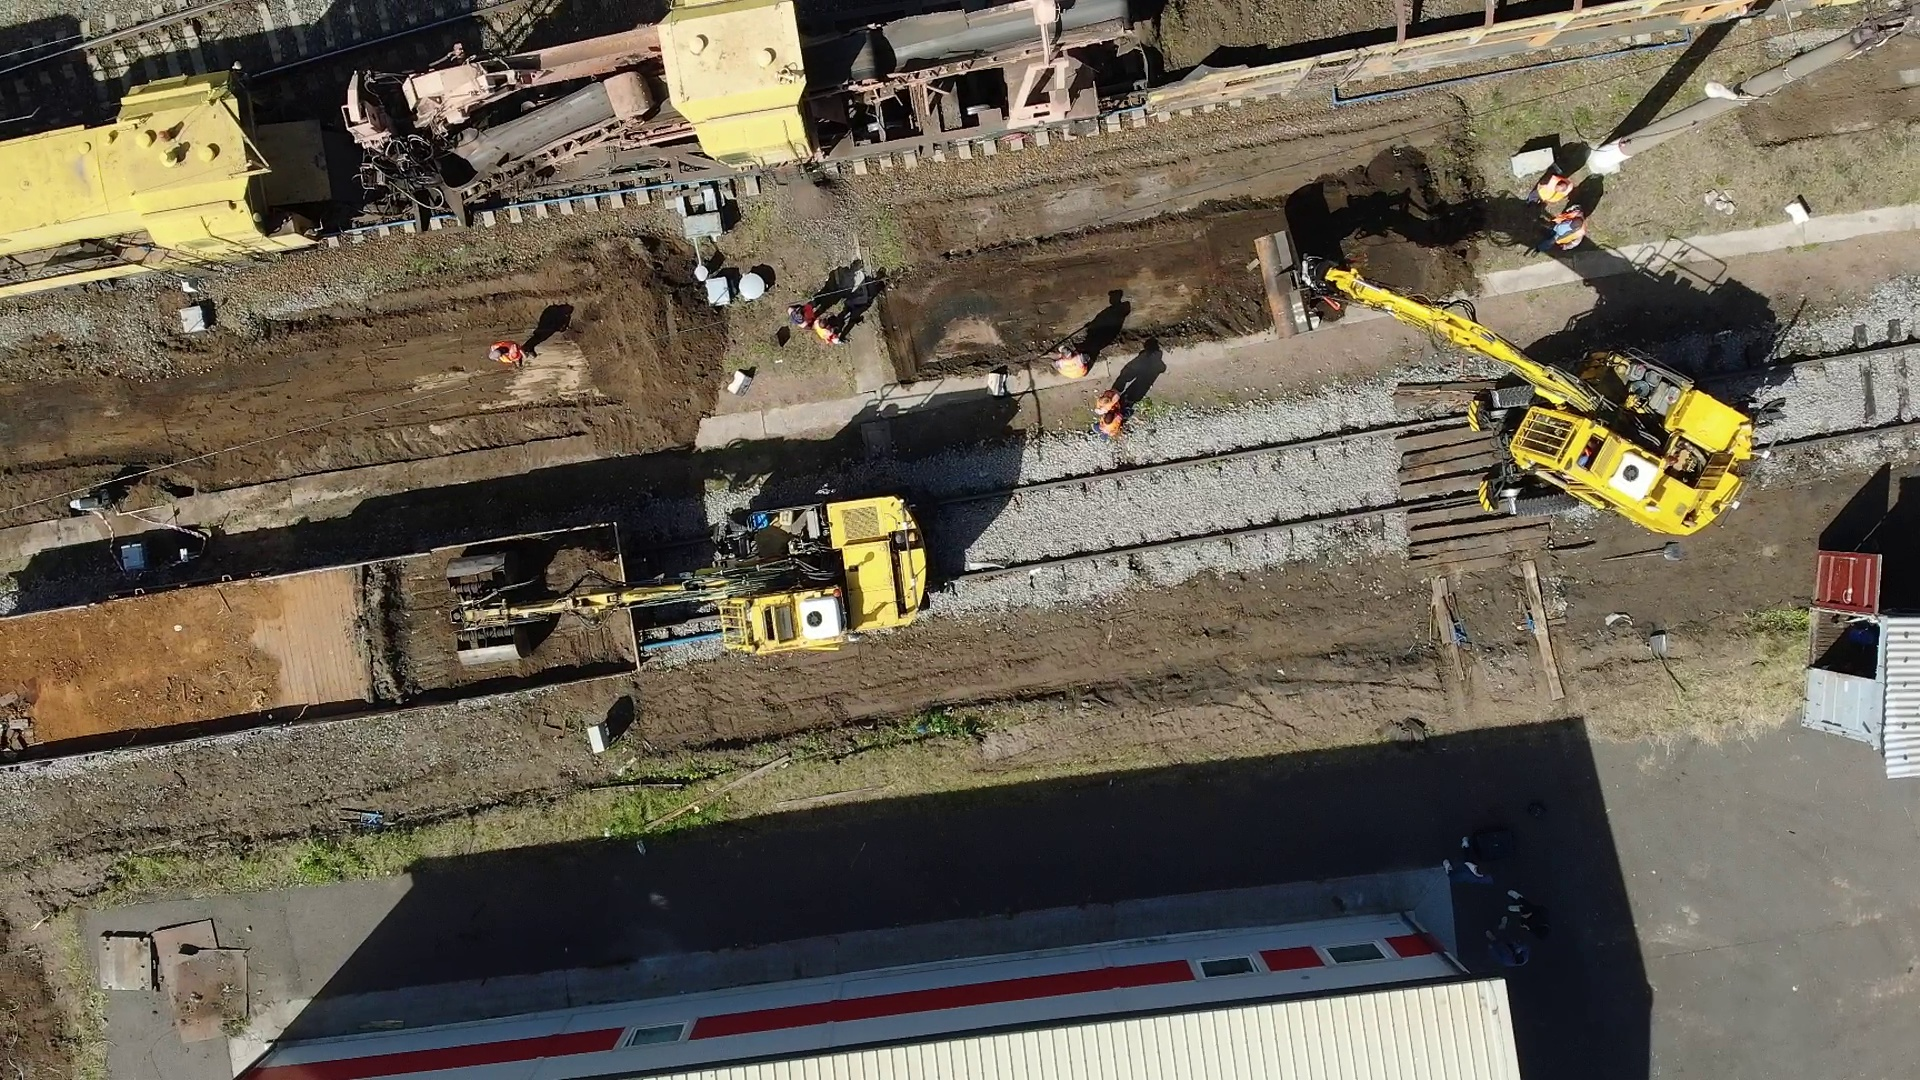kjtv: (1472, 323, 1747, 538), (698, 496, 933, 656)
